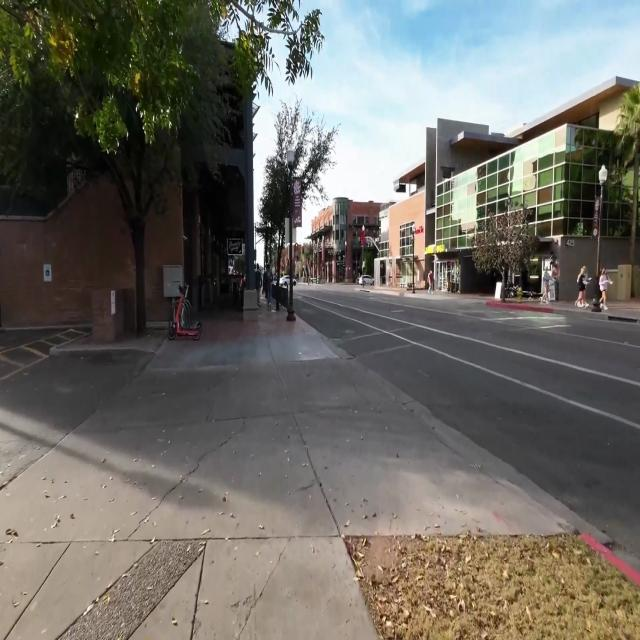road: (296, 286, 640, 564)
side walk: (0, 313, 604, 639)
street sign: (286, 151, 301, 320)
